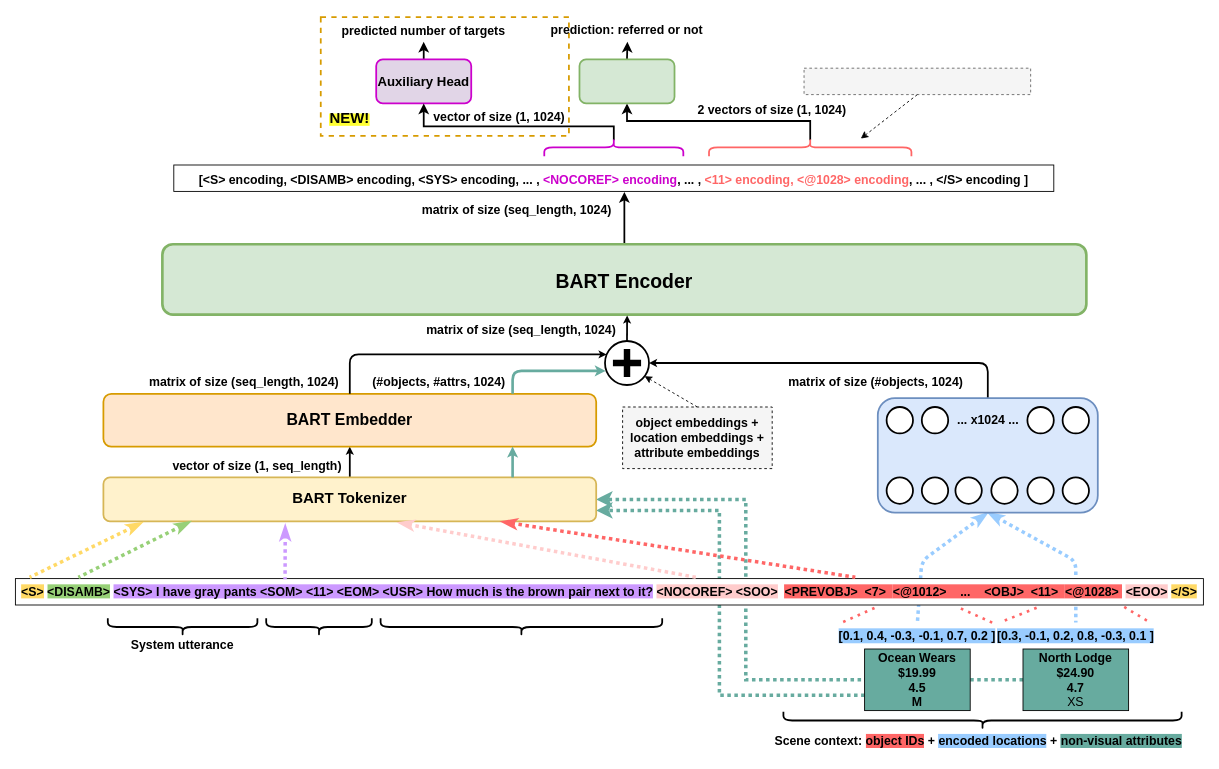
Image size: 1219x769. Some labels were removed from this diagram. Each missing label, with the box of its shape:
Coreference Head: (578, 58, 675, 104)
Location Embedder: (876, 397, 1098, 513)
Multimodal context: (265, 617, 372, 636)
repeat for every object embedding: (803, 67, 1031, 95)
User utterance: (379, 617, 663, 636)
